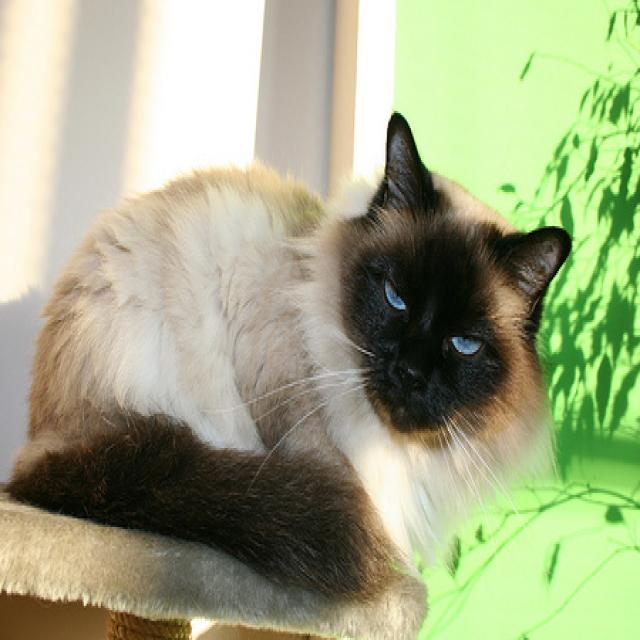Birman: (6, 109, 576, 596)
